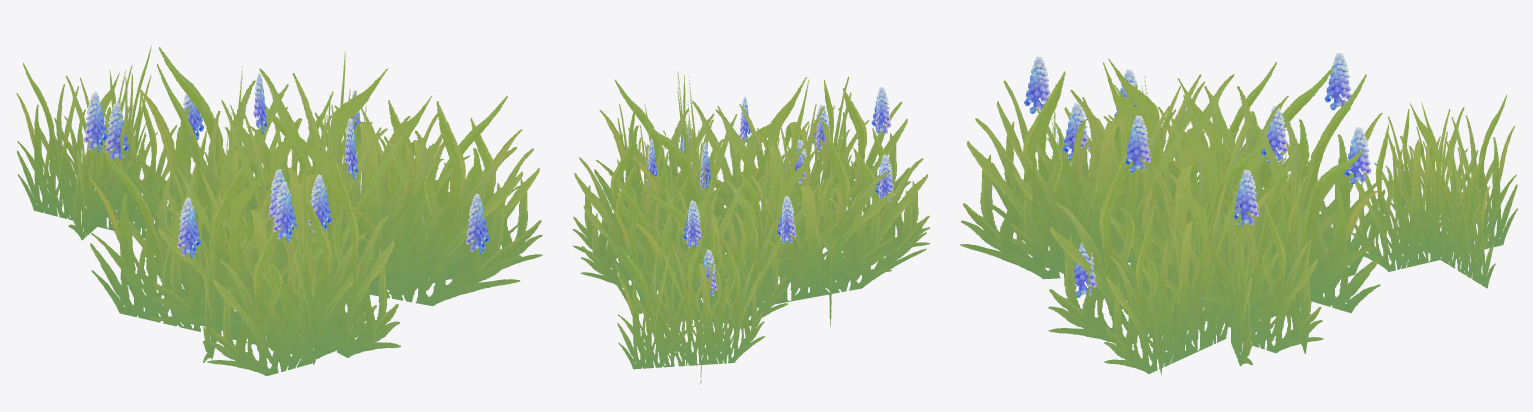
The model's file is SM_cao14_znj.fbx.
3 views of the same model, side by side, from view 1: azimuth 30°, elevation 25°; view 2: azimuth 150°, elevation 25°; view 3: azimuth 270°, elevation 25° (orthographic). The views are drawn at different scales.
Visible parts, largest first — view 1: SM_cao14_znj.mo; view 2: SM_cao14_znj.mo; view 3: SM_cao14_znj.mo.
Boxes of the visible parts, x1,y1,x2,y2 form: SM_cao14_znj.mo: (16,45,542,376); SM_cao14_znj.mo: (572,71,930,390); SM_cao14_znj.mo: (960,53,1517,374).
Size of the model in its own units: 1.22 by 0.7983 by 1.62.
